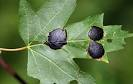Diseased_Leaves: (43, 26, 74, 53), (83, 43, 109, 62), (85, 23, 107, 41)
